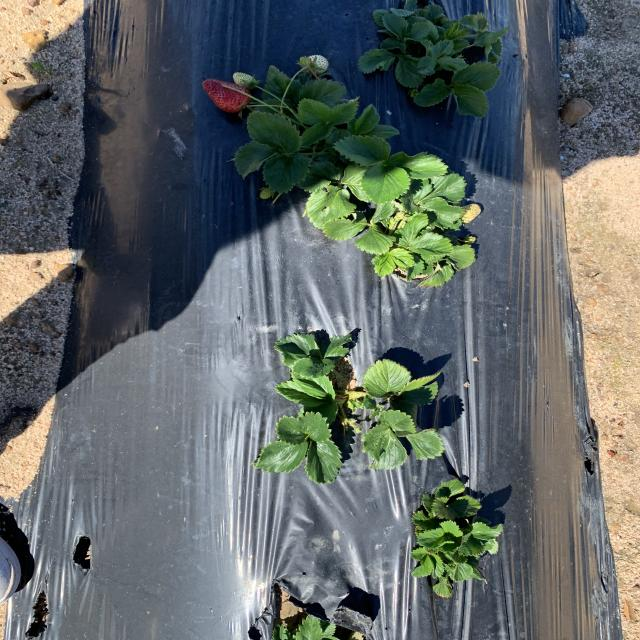unripe: (200, 78, 253, 114)
